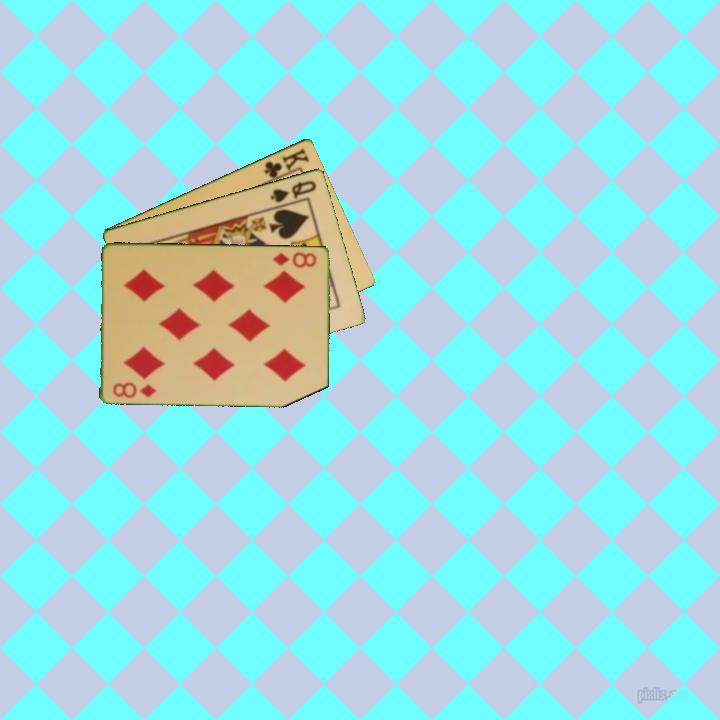8d: (269, 248, 320, 270), (110, 378, 159, 400)
Kc: (261, 144, 312, 185)
Qs: (266, 176, 319, 205)
